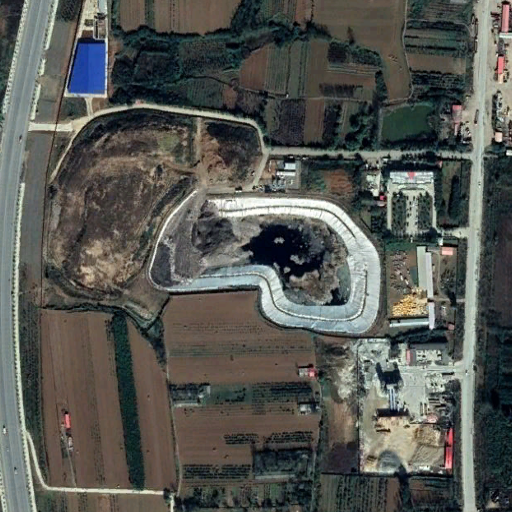lf: (151, 185, 380, 338)
